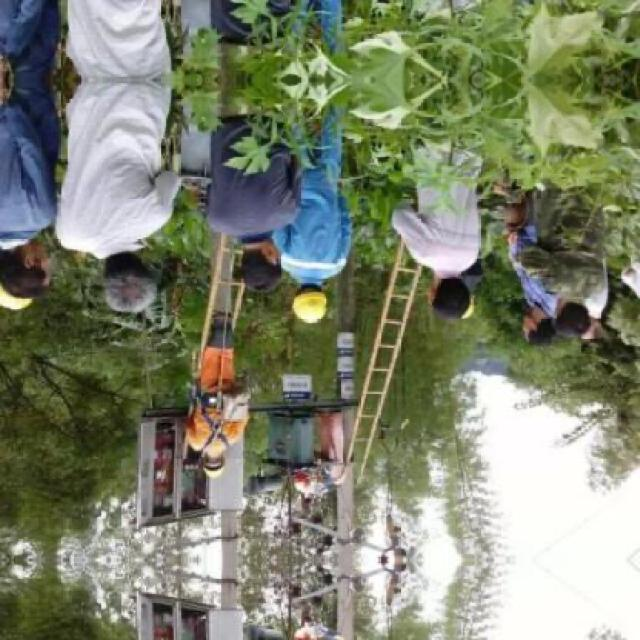con casco: (168, 433, 256, 501), (287, 272, 345, 336)
sin casco: (506, 286, 634, 378), (102, 234, 184, 326), (214, 210, 304, 288), (0, 212, 61, 320), (412, 253, 496, 320)
